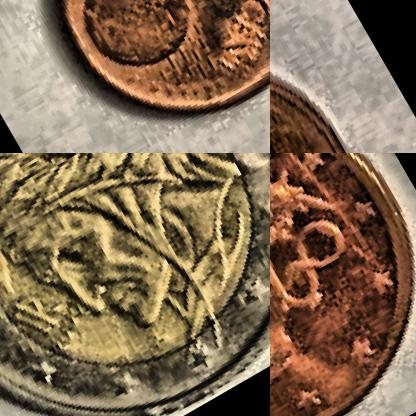coin: (0, 153, 269, 415), (7, 0, 269, 152), (270, 153, 415, 415), (270, 14, 414, 152)
